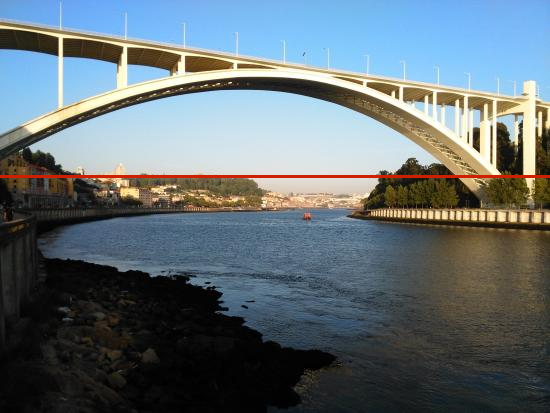arrabida: (0, 11, 547, 255)
